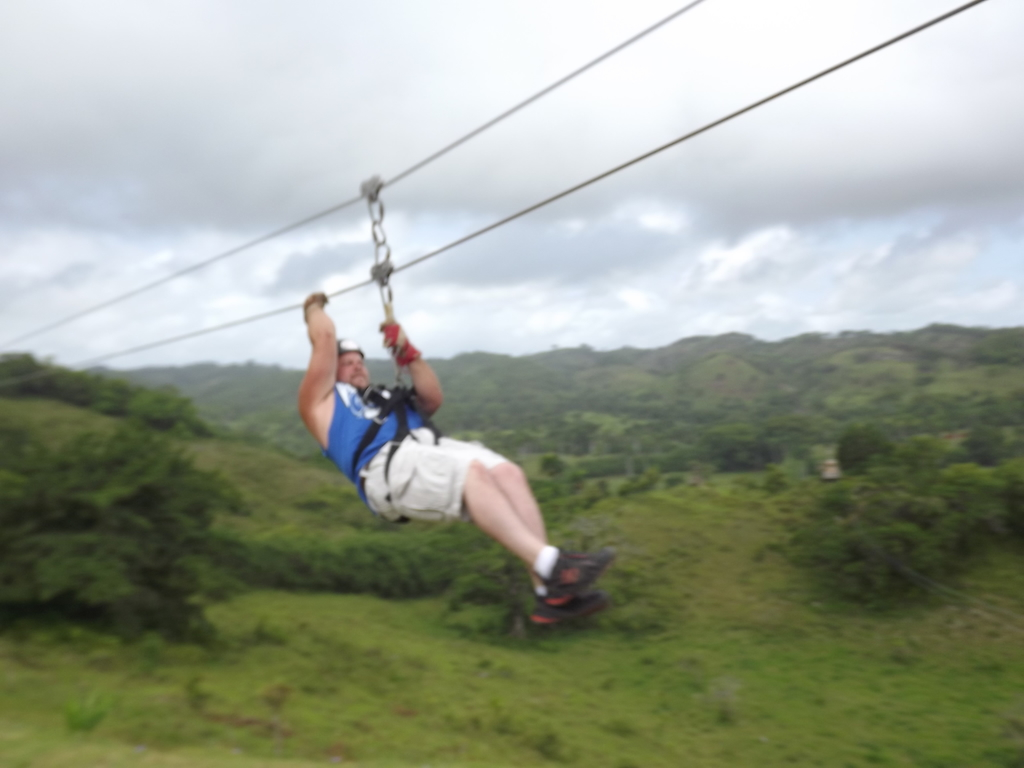Human_hand: (382, 322, 411, 355), (302, 292, 323, 320)
